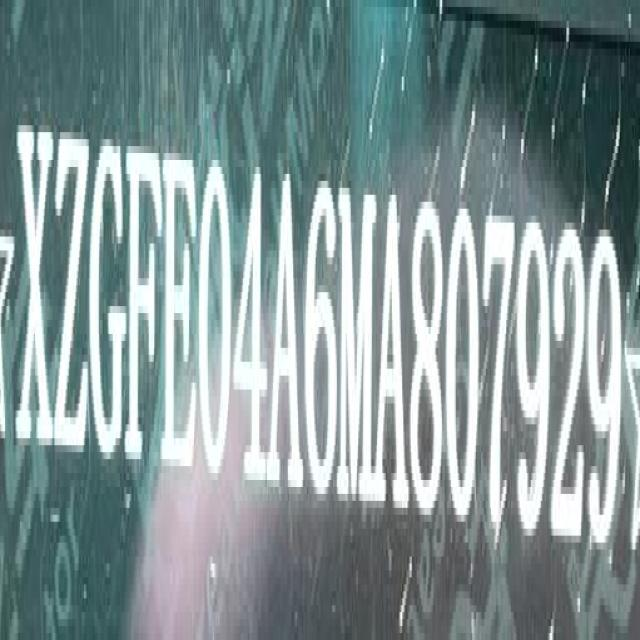0: (447, 206, 482, 533), (201, 155, 235, 487)
2: (550, 223, 586, 552)
4: (233, 162, 268, 494)
6: (303, 179, 340, 500)
7: (483, 206, 515, 536)
8: (410, 199, 446, 518)
9: (516, 220, 551, 545), (591, 233, 624, 556)
A: (376, 192, 412, 515), (270, 172, 302, 498)
E: (161, 147, 199, 487)
F: (129, 140, 163, 483)
G: (90, 129, 128, 471)
M: (340, 184, 377, 507)
X: (17, 117, 52, 452)
Z: (54, 126, 88, 466)
